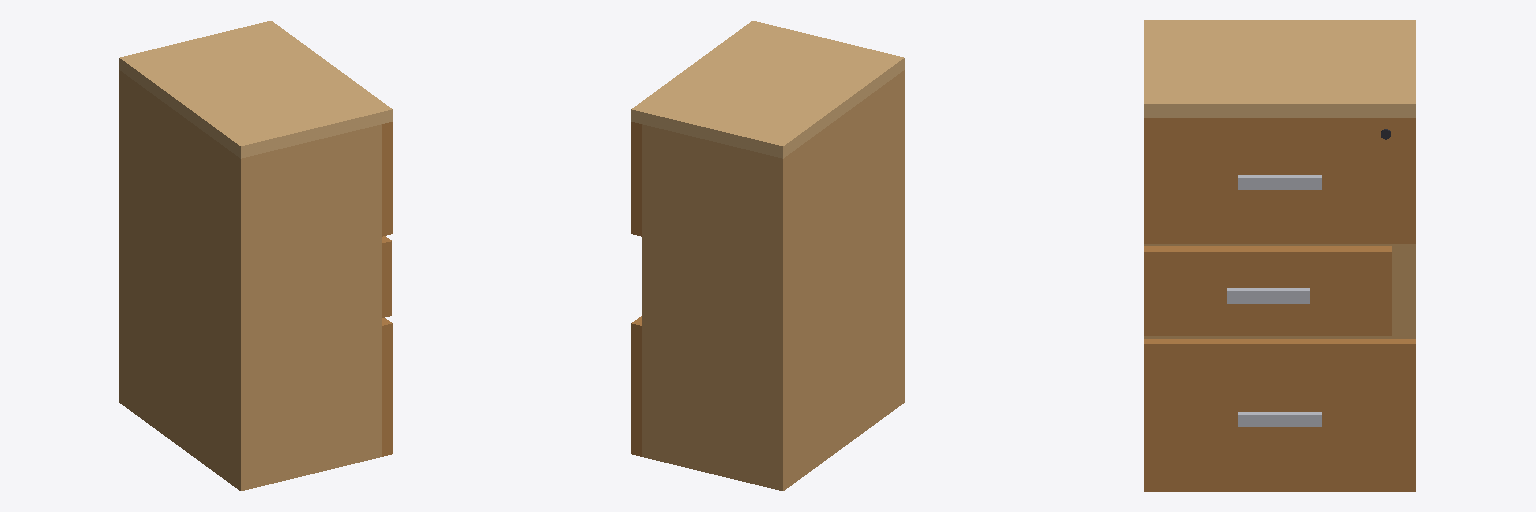
The robot description file, URDF, robot "drawer2_lidar":
<?xml version='1.0' encoding='utf-8'?>
<robot name="drawer2_lidar">
  <link name="base">
    <visual name="design_base_0">
      <origin xyz="-0.12100 0.00045 0.00360" rpy="0.00000 0.00000 0.00000" />
      <geometry>
        <box size="0.26000 0.35950 0.02000" />
      </geometry>
      <material name="design_base_0_color">
        <color rgba="0.85000 0.71000 0.52000 1" />
      </material>
    </visual>
    <visual name="design_base_1">
      <origin xyz="-0.13000 0.00045 -0.27820" rpy="0.00000 0.00000 0.00000" />
      <geometry>
        <box size="0.24200 0.35950 0.54360" />
      </geometry>
      <material name="design_base_1_color">
        <color rgba="0.80000 0.64000 0.44000 1" />
      </material>
    </visual>
    <visual name="design_base_2">
      <origin xyz="0.00000 0.00045 -0.09820" rpy="0.00000 0.00000 0.00000" />
      <geometry>
        <box size="0.01800 0.35950 0.18360" />
      </geometry>
      <material name="design_base_2_color">
        <color rgba="0.74000 0.54000 0.33000 1" />
      </material>
    </visual>
    <visual name="design_base_3">
      <origin xyz="0.00000 0.00045 -0.44300" rpy="0.00000 0.00000 0.00000" />
      <geometry>
        <box size="0.01800 0.35950 0.21400" />
      </geometry>
      <material name="design_base_3_color">
        <color rgba="0.74000 0.54000 0.33000 1" />
      </material>
    </visual>
    <visual name="design_base_4">
      <origin xyz="0.01400 0.00045 -0.09820" rpy="0.00000 0.00000 0.00000" />
      <geometry>
        <box size="0.01000 0.11000 0.01800" />
      </geometry>
      <material name="design_base_4_color">
        <color rgba="0.78000 0.79000 0.82000 1" />
      </material>
    </visual>
    <visual name="design_base_5">
      <origin xyz="0.01400 0.00045 -0.44300" rpy="0.00000 0.00000 0.00000" />
      <geometry>
        <box size="0.01000 0.11000 0.01800" />
      </geometry>
      <material name="design_base_5_color">
        <color rgba="0.78000 0.79000 0.82000 1" />
      </material>
    </visual>
    <visual name="design_base_6">
      <origin xyz="0.01050 0.14000 -0.03000" rpy="-0.00000 1.57080 0.00000" />
      <geometry>
        <cylinder radius="0.00700" length="0.00300" />
      </geometry>
      <material name="design_base_6_color">
        <color rgba="0.25000 0.25000 0.28000 1" />
      </material>
    </visual>
    <inertial>
      <origin xyz="-0.122118 0.00408661 -0.269527" rpy="-0.0010759 -0.000274735 -0.00377982" />
      <mass value="13" />
      <inertia ixx="0.571259" ixy="0" ixz="0" iyy="0.501093" iyz="0" izz="0.218996" />
    </inertial>
    <collision>
      <geometry>
        <mesh filename="meshes/base_0.stl" />
      </geometry>
    </collision>
    <collision>
      <geometry>
        <mesh filename="meshes/base_1.stl" />
      </geometry>
    </collision>
    <collision>
      <geometry>
        <mesh filename="meshes/base_2.stl" />
      </geometry>
    </collision>
    <collision>
      <geometry>
        <mesh filename="meshes/base_3.stl" />
      </geometry>
    </collision>
  </link>
  <link name="drawer1">
    <visual name="design_drawer1_0">
      <origin xyz="0.00000 -0.01475 -0.26305" rpy="0.00000 0.00000 0.00000" />
      <geometry>
        <box size="0.01800 0.32670 0.12210" />
      </geometry>
      <material name="design_drawer1_0_color">
        <color rgba="0.74000 0.54000 0.33000 1" />
      </material>
    </visual>
    <visual name="design_drawer1_1">
      <origin xyz="0.01400 -0.01475 -0.26305" rpy="0.00000 0.00000 0.00000" />
      <geometry>
        <box size="0.01000 0.11000 0.01800" />
      </geometry>
      <material name="design_drawer1_1_color">
        <color rgba="0.78000 0.79000 0.82000 1" />
      </material>
    </visual>
    <visual name="design_drawer1_2">
      <origin xyz="-0.12400 -0.01475 -0.31810" rpy="0.00000 0.00000 0.00000" />
      <geometry>
        <box size="0.23000 0.30000 0.01200" />
      </geometry>
      <material name="design_drawer1_2_color">
        <color rgba="0.15000 0.16000 0.18000 1" />
      </material>
    </visual>
    <visual name="design_drawer1_3">
      <origin xyz="-0.12400 -0.15875 -0.28910" rpy="0.00000 0.00000 0.00000" />
      <geometry>
        <box size="0.23000 0.01200 0.07000" />
      </geometry>
      <material name="design_drawer1_3_color">
        <color rgba="0.20000 0.20000 0.22000 1" />
      </material>
    </visual>
    <visual name="design_drawer1_4">
      <origin xyz="-0.12400 0.12925 -0.28910" rpy="0.00000 0.00000 0.00000" />
      <geometry>
        <box size="0.23000 0.01200 0.07000" />
      </geometry>
      <material name="design_drawer1_4_color">
        <color rgba="0.20000 0.20000 0.22000 1" />
      </material>
    </visual>
    <visual name="design_drawer1_5">
      <origin xyz="-0.23300 -0.01475 -0.28910" rpy="0.00000 0.00000 0.00000" />
      <geometry>
        <box size="0.01200 0.30000 0.07000" />
      </geometry>
      <material name="design_drawer1_5_color">
        <color rgba="0.20000 0.20000 0.22000 1" />
      </material>
    </visual>
    <inertial>
      <origin xyz="-0.104177 -0.0147241 -0.280774" rpy="-1.5708 -1.51331 -3.14159" />
      <mass value="2.5" />
      <inertia ixx="0.0493126" ixy="0" ixz="0" iyy="0.0312277" iyz="0" izz="0.023528" />
    </inertial>
    <collision>
      <geometry>
        <mesh filename="meshes/drawer1_0.stl" />
      </geometry>
    </collision>
    <collision>
      <geometry>
        <mesh filename="meshes/drawer1_1.stl" />
      </geometry>
    </collision>
    <collision>
      <geometry>
        <mesh filename="meshes/drawer1_2.stl" />
      </geometry>
    </collision>
    <collision>
      <geometry>
        <mesh filename="meshes/drawer1_3.stl" />
      </geometry>
    </collision>
    <collision>
      <geometry>
        <mesh filename="meshes/drawer1_4.stl" />
      </geometry>
    </collision>
  </link>
  <joint name="drawer1_joint" type="prismatic">
    <parent link="base" />
    <child link="drawer1" />
    <origin xyz="0.00000 0.00000 0.00000" rpy="0 0 0" />
    <axis xyz="1.00000 0.00000 -0.00000" />
    <limit lower="0.0000" upper="0.2480" effort="10" velocity="2" />
    <dynamics damping="1" friction="0.981" />
  </joint>
</robot>

--- Render facts (derived) ---
Views: 3 orthographic renders of the robot side by side, from view 1: azimuth 30°, elevation 25°; view 2: azimuth 150°, elevation 25°; view 3: azimuth 270°, elevation 25°.
Robot: drawer2_lidar — 2 links, 1 joints (1 prismatic); root link base; default pose: all joints at 0.
Links seen in each view (by area): view 1: base, drawer1; view 2: base; view 3: base, drawer1.
Boxes of the visible links, x1,y1,x2,y2 form: base: (119,21,392,490); drawer1: (382,236,391,317); base: (631,21,904,490); base: (1144,20,1415,491); drawer1: (1144,246,1391,335).
Size in the robot's own frame: 0.27 by 0.3595 by 0.5636 metres.
Geometry: primitives only (box / cylinder / sphere), no mesh files.
